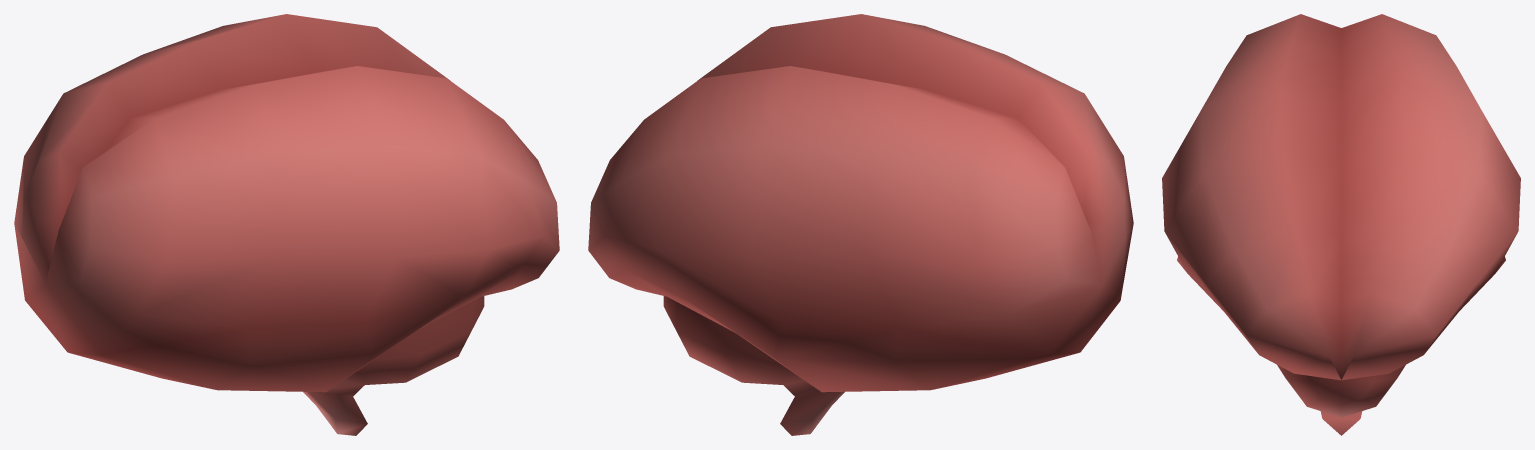
Rendered from grenade_Brain.glb.
The picture shows the model from 3 angles, left to right: view 1: azimuth 30°, elevation 25°; view 2: azimuth 150°, elevation 25°; view 3: azimuth 270°, elevation 25°; orthographic projection. The views are drawn at different scales.
Parts seen in each view (by area): view 1: grenade_Brain; view 2: grenade_Brain; view 3: grenade_Brain.
Boxes of the visible parts, x1,y1,x2,y2 form: grenade_Brain: [14, 14, 559, 435]; grenade_Brain: [588, 14, 1133, 435]; grenade_Brain: [1162, 14, 1520, 435].
Size of the model in its own units: 0.1815 by 0.1482 by 0.1411.
